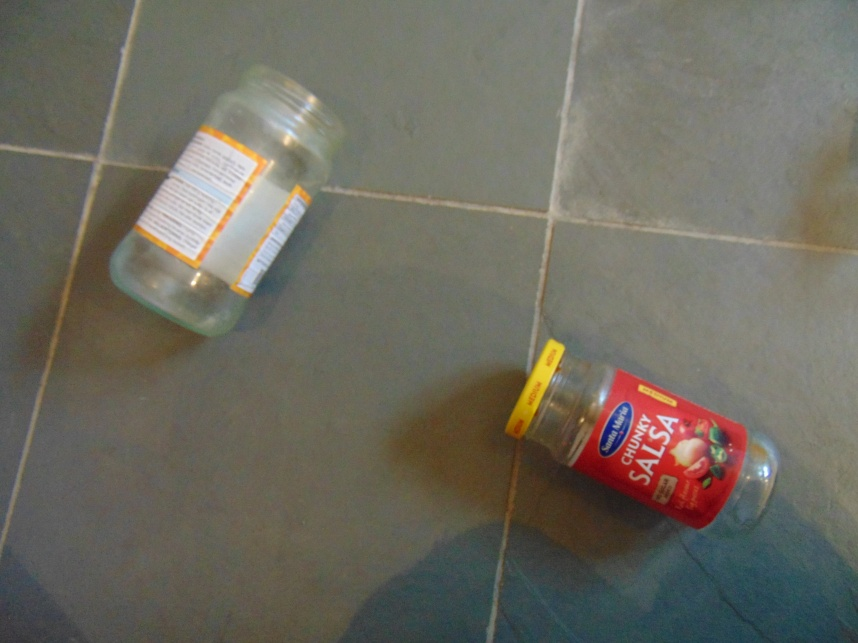glass_bottle: (105, 65, 346, 340), (505, 339, 779, 541)
